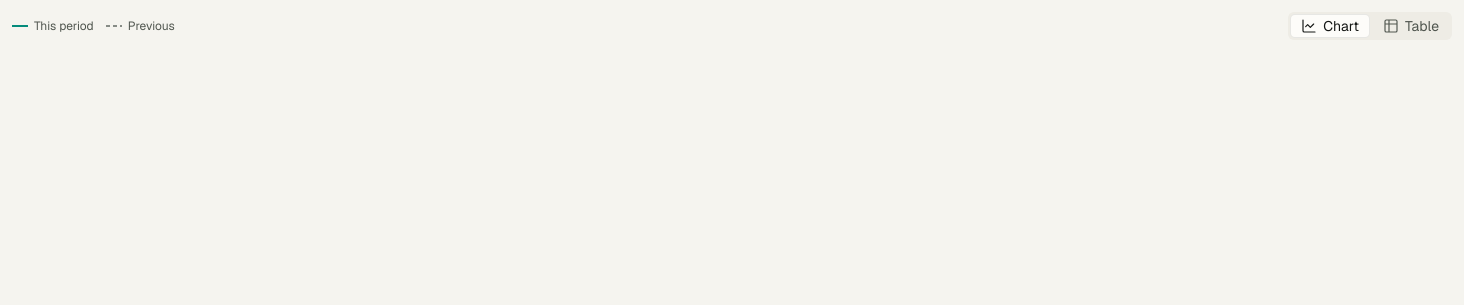
it: LineChart › labels the chart with the summary sentence and switches to a real table
Click the radio button labelled "Table" at {"x": 1411, "y": 26}, box left=1372, top=14, right=1450, bottom=38
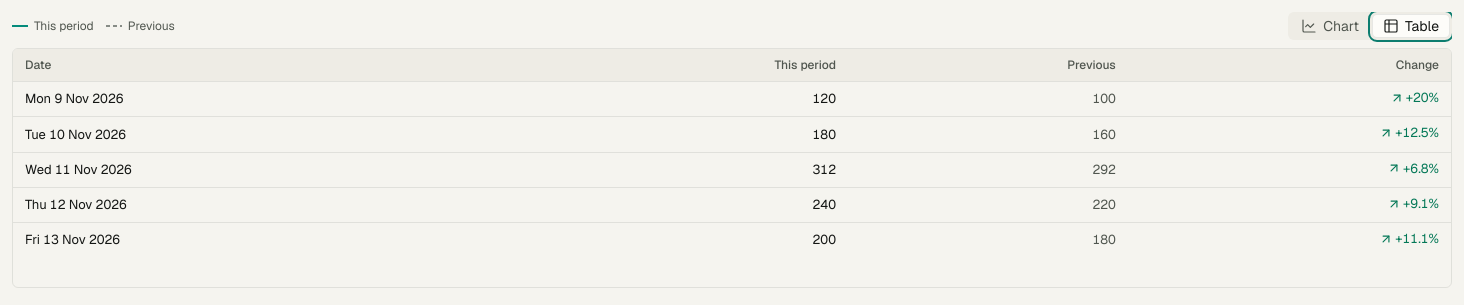
Result: the table named "Visitors" is shown
Result: the column heading "This period" is shown at left=518, top=49, right=848, bottom=81
Result: the column heading "Previous" is shown at left=848, top=49, right=1128, bottom=81
